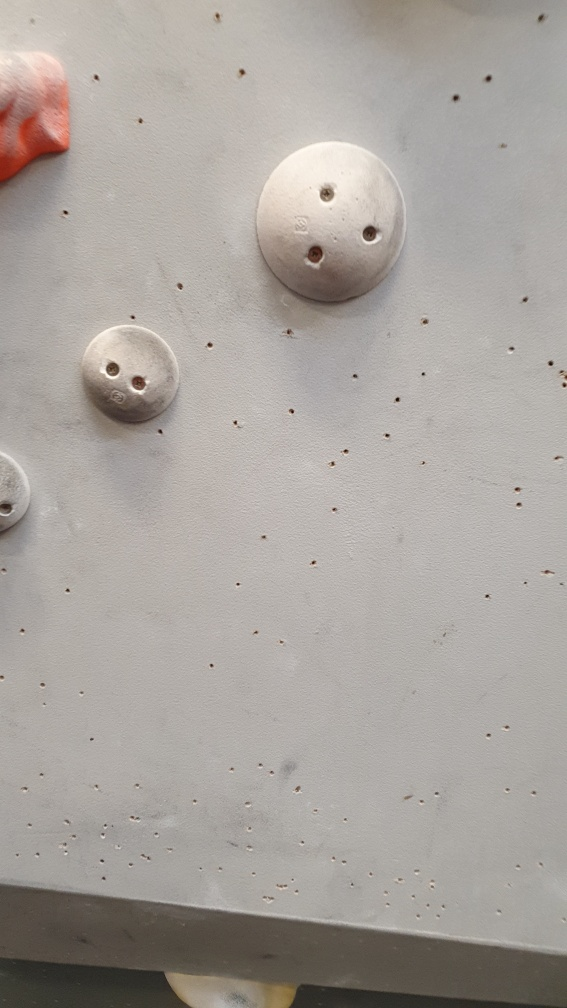Jug: (1, 50, 80, 197)
Sloper: (246, 136, 405, 313), (83, 320, 187, 430), (1, 443, 39, 543)
